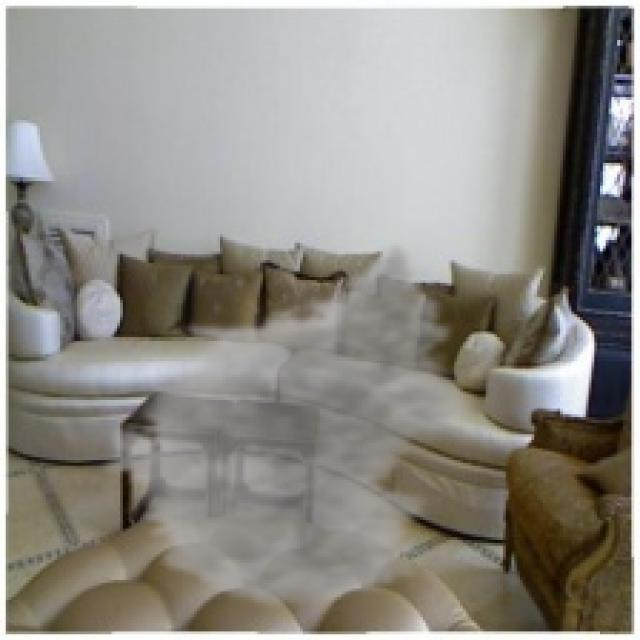Smoke: (94, 239, 480, 612)
